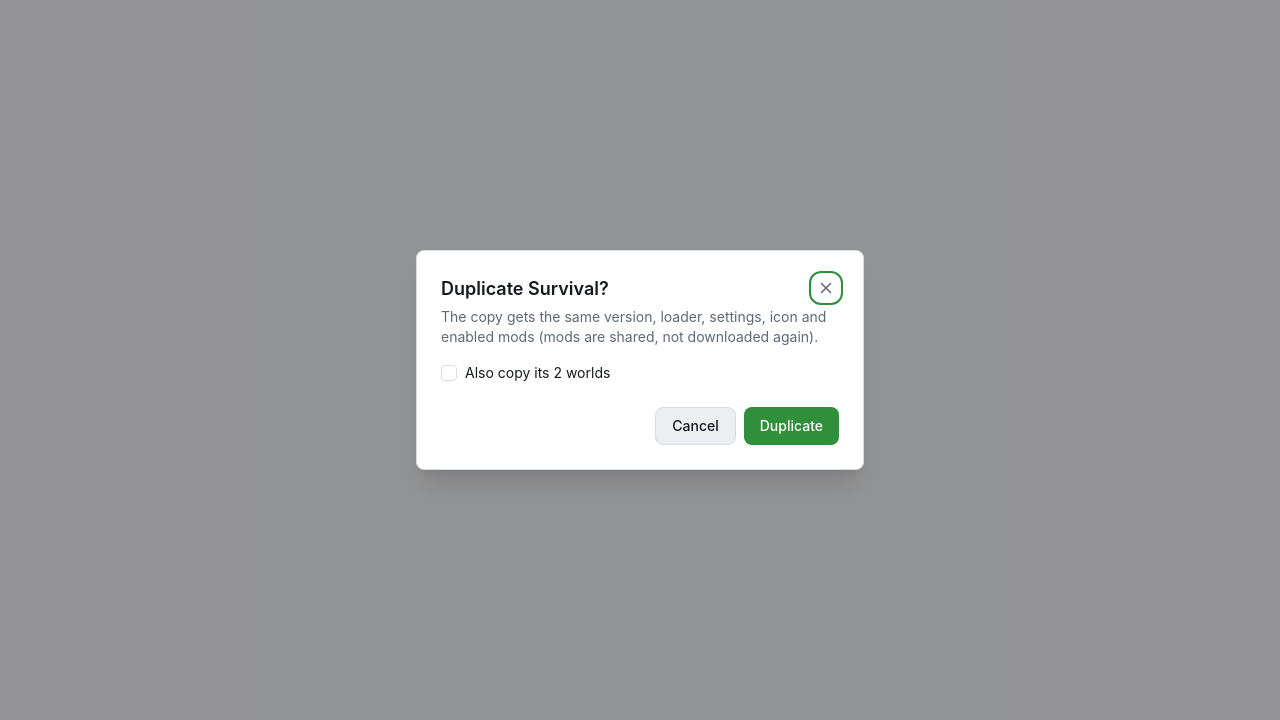
DuplicateProfileDialog › asks to close the game before copying a running profile's worlds
This screenshot has width=1280, height=720.
What coordinates should you click on to do the following:
click the checkbox named "Also copy its 2 worlds"
I would click on:
 (449, 373)
Its box is [441,365,457,381].
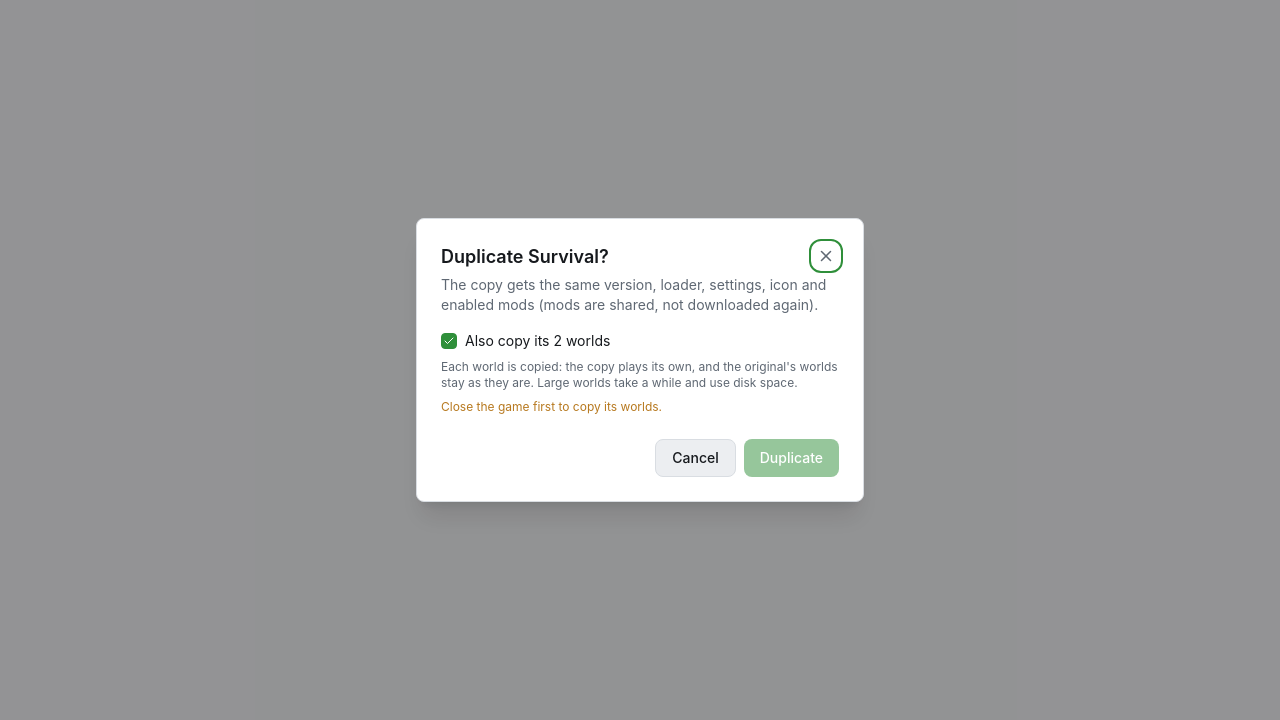
expect the text "Close the game first to copy its worlds." is shown: met, box [441,399,662,414]
expect the button "Duplicate" is disabled: met, box [744,439,839,477]
